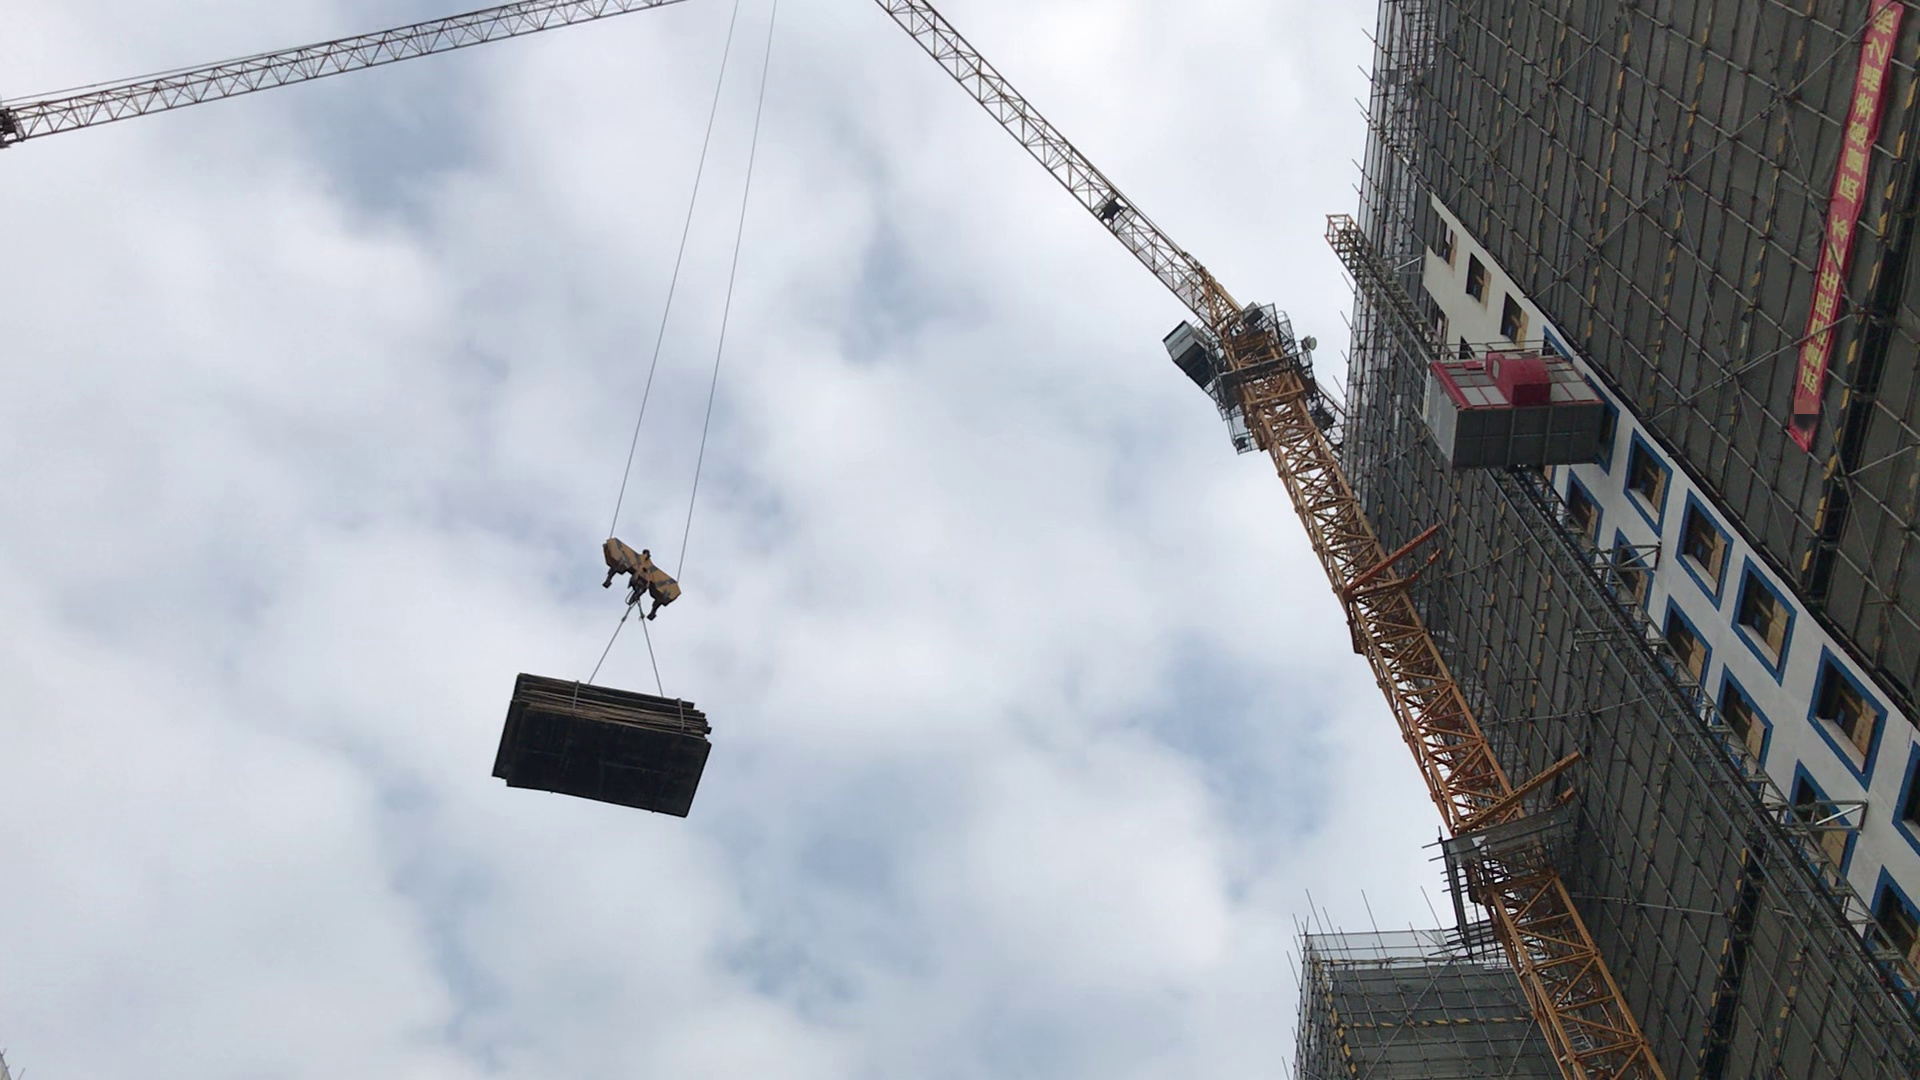board: (487, 670, 716, 833)
hook: (599, 520, 690, 634)
